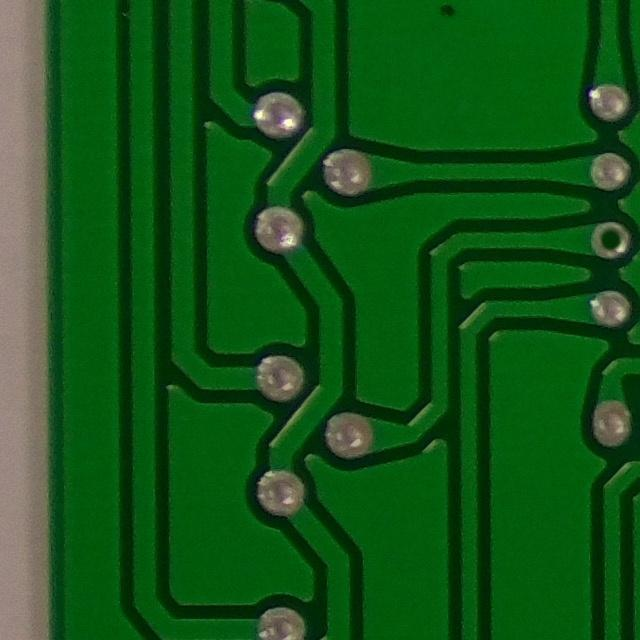missing_hole: (588, 212, 638, 269)
